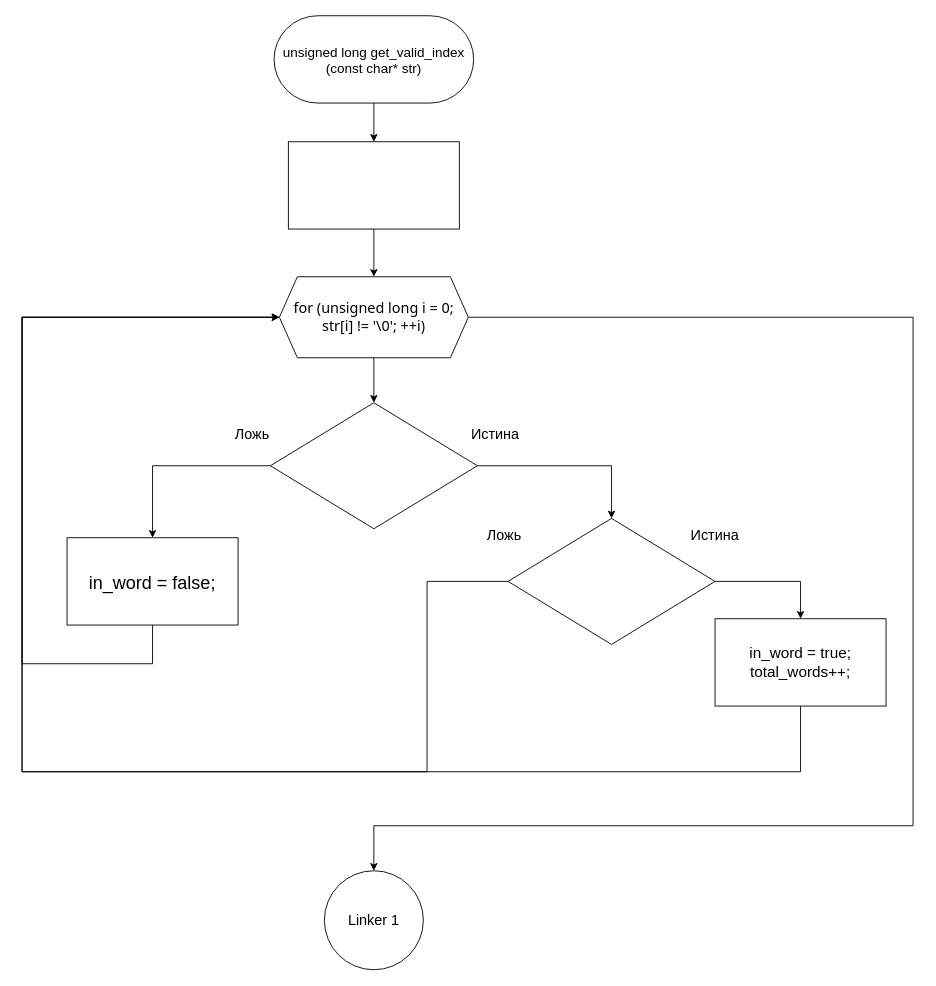
This 936x986 diagram has some shape labels left out. Here are the shapes that lost their labels. From the top down, the box of each, then its label:
(287, 141, 459, 229): unsigned long total_words = 0; bool in_word = false;
(269, 402, 477, 529): if (str[i] != ' ')
(507, 518, 715, 644): if (!in_word)
